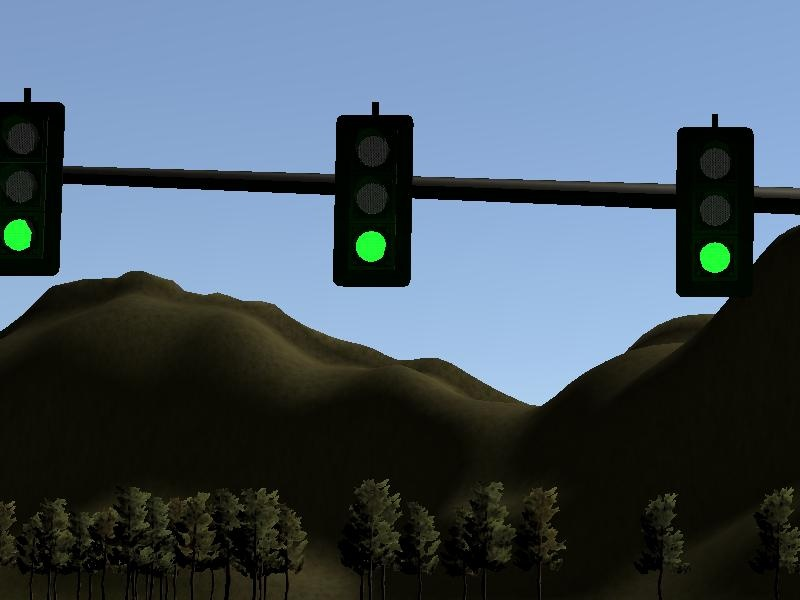GREEN: (674, 122, 760, 302), (331, 111, 416, 293), (1, 104, 67, 278)
